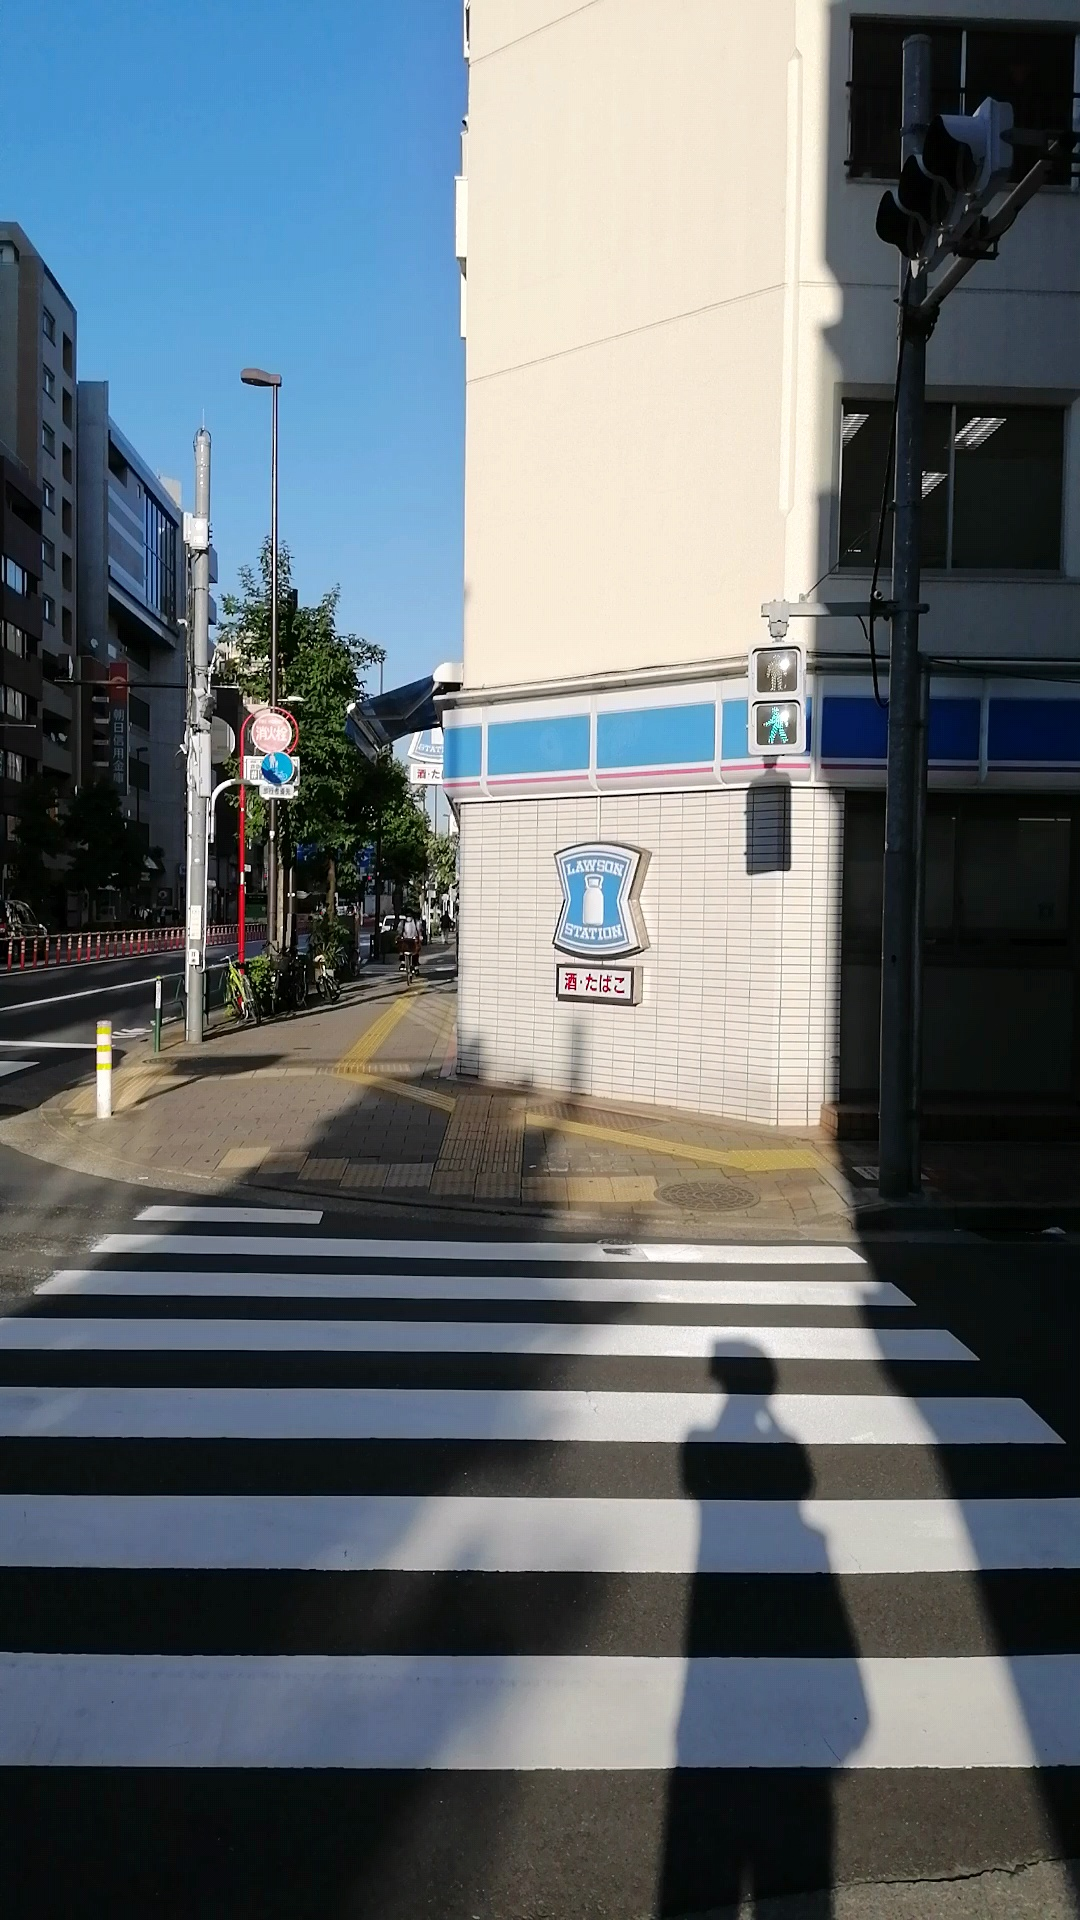green: (746, 642, 804, 754)
